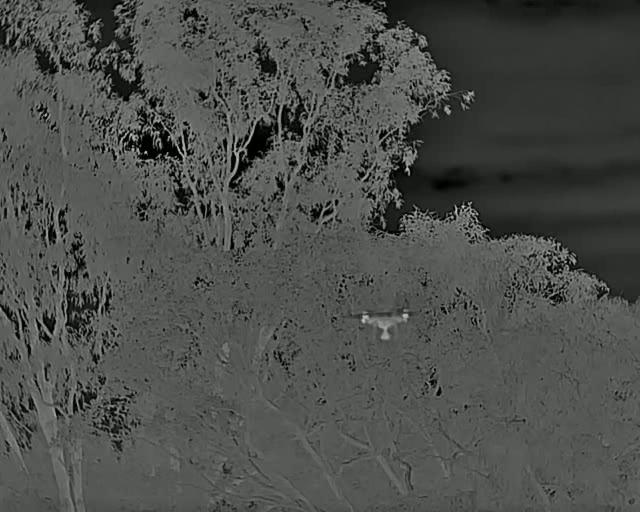DJI-Phantom: (357, 310, 414, 341)
